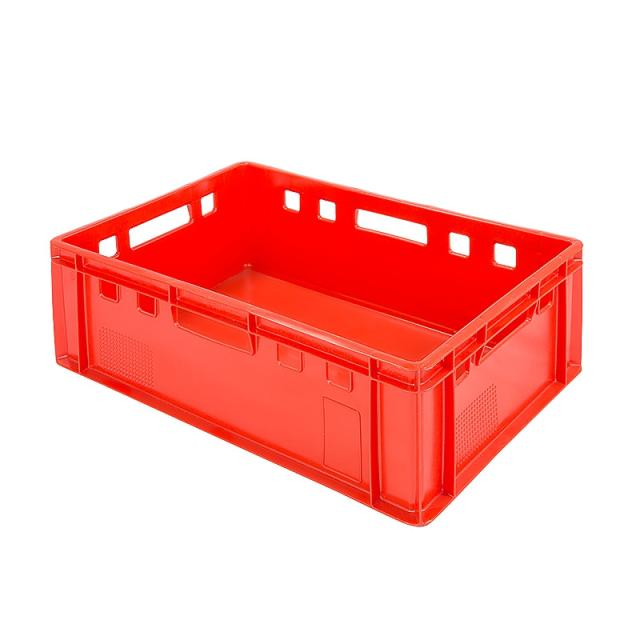basket: (6, 123, 610, 555)
